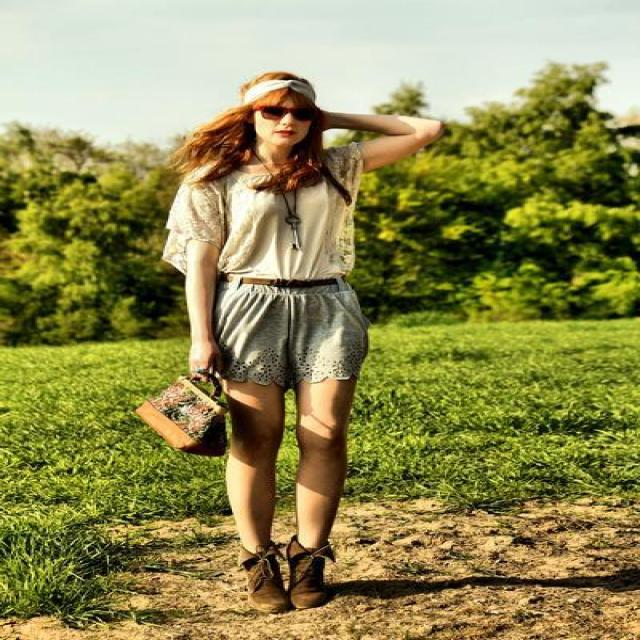bag: (136, 376, 227, 458)
shirt: (162, 141, 386, 294)
shoe: (220, 525, 350, 620)
shorts: (204, 277, 386, 396)
